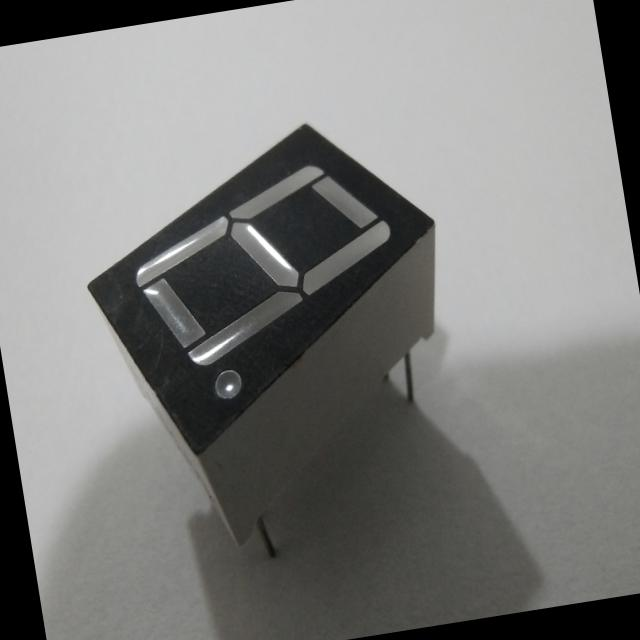7_segments: (58, 103, 488, 588)
